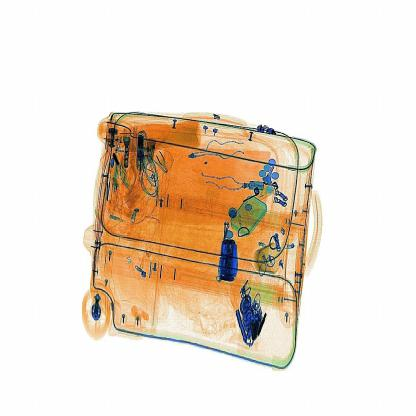scissors: (215, 234, 243, 288)
